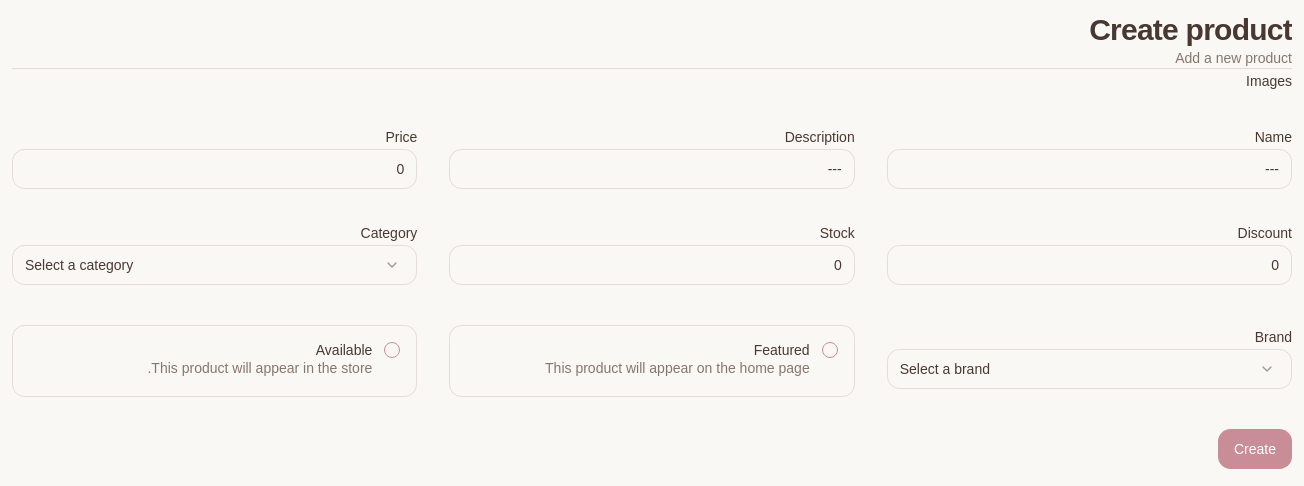
Test: product form image field › toggles the featured and available switches
The width and height of the screenshot is (1304, 486).
Click the checkbox next to "Featured" at point(830, 350), box [822, 342, 838, 358]
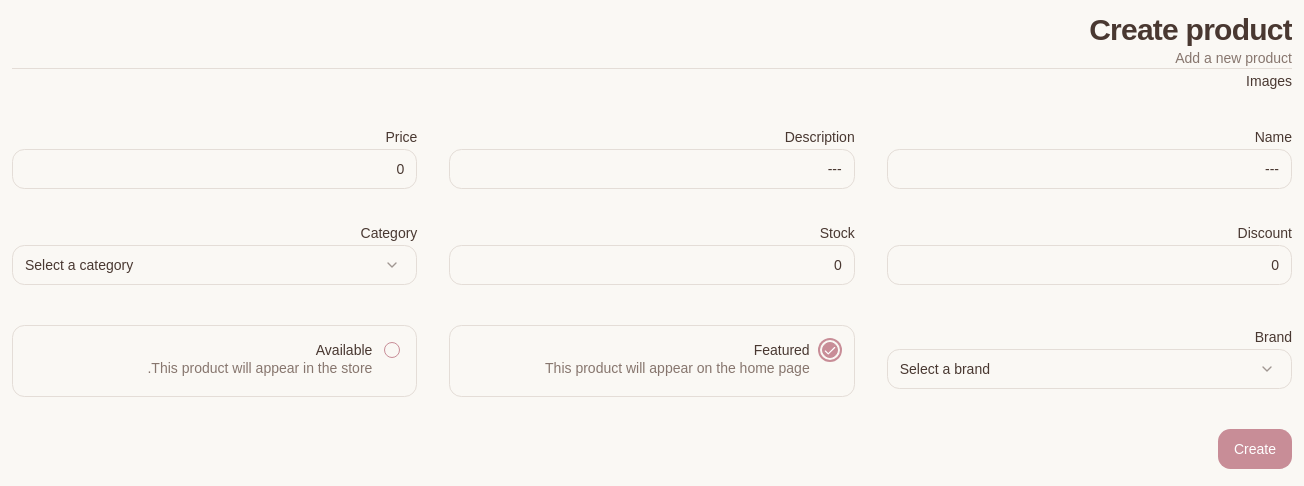
Click the checkbox next to "Available" at point(392, 350), box [384, 342, 400, 358]
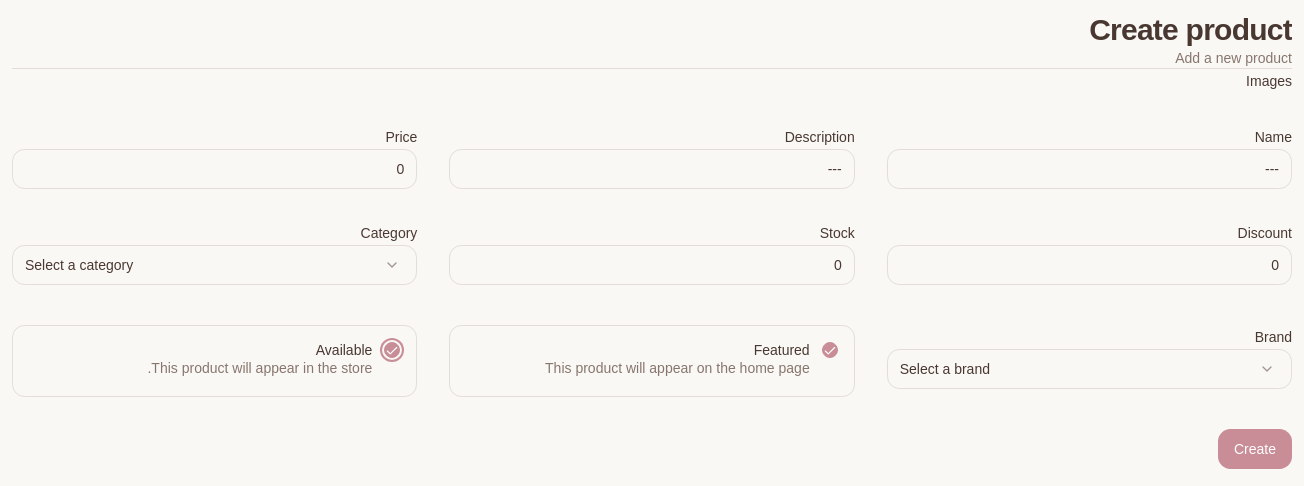
Check: the checkbox next to "Featured" has attribute data-state="checked", box [822, 342, 838, 358]
